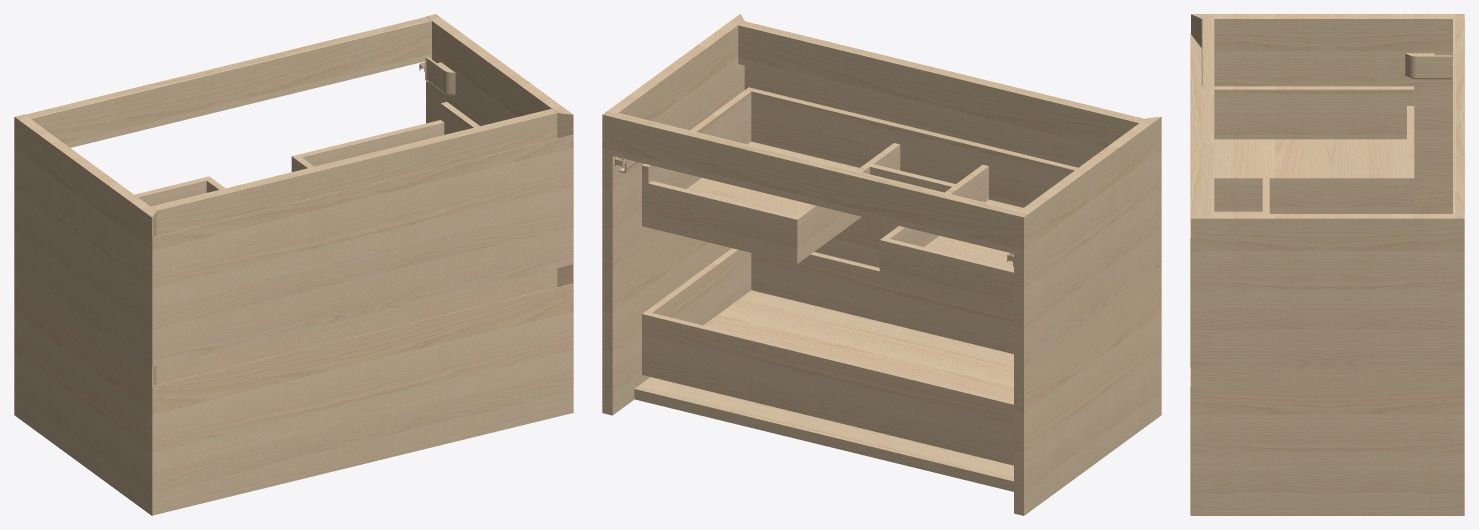
The model's file is moment 800 2c.glb.
3 views of the same model, side by side, from view 1: azimuth 30°, elevation 25°; view 2: azimuth 150°, elevation 25°; view 3: azimuth 270°, elevation 25° (orthographic).
Parts seen in each view (by area): view 1: Moment 800 2c; view 2: Moment 800 2c; view 3: Moment 800 2c.
Part boxes in pixels (x1,y1,x2,y2): Moment 800 2c: [14, 14, 573, 515]; Moment 800 2c: [602, 14, 1161, 515]; Moment 800 2c: [1190, 14, 1464, 515].
Bounding box in the file's own units: 0.798 × 0.54 × 0.452.
Materials: 1 (1 with a texture image).
